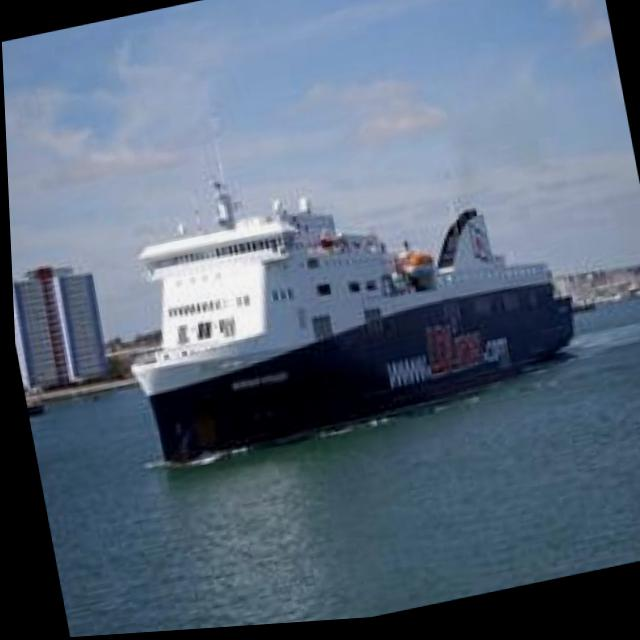ship2: (127, 181, 570, 470)
